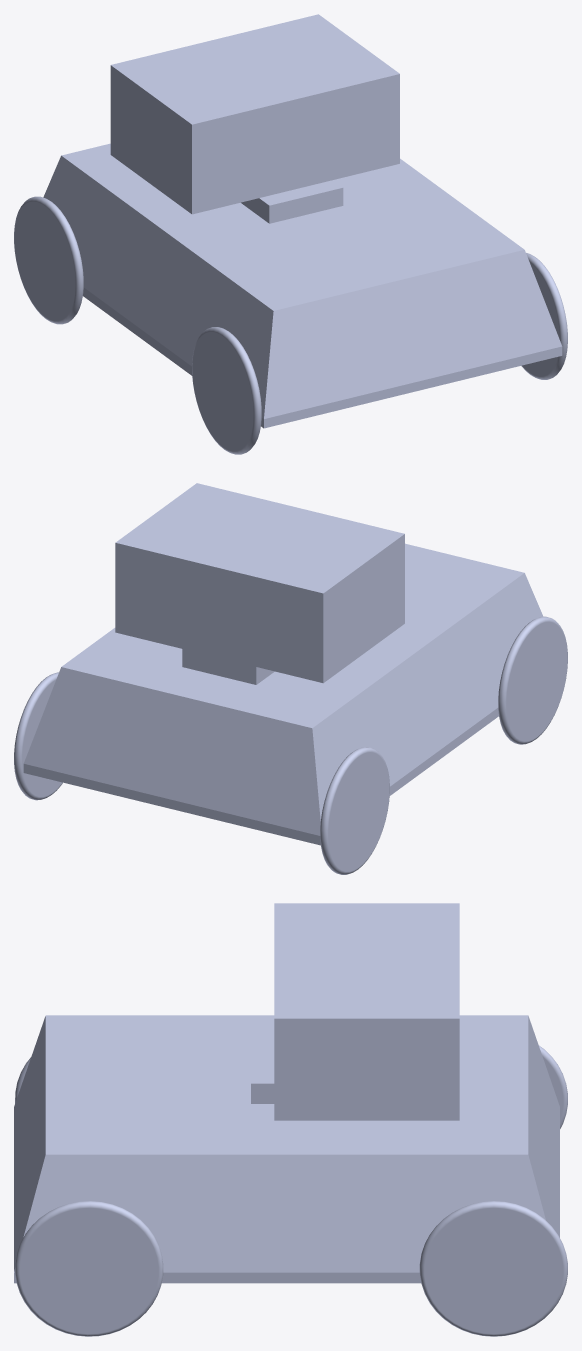
File: RobotMesh.fbx
3 renders of one model, top to bottom at view 1: azimuth 30°, elevation 25°; view 2: azimuth 150°, elevation 25°; view 3: azimuth 270°, elevation 25°, orthographic. The views are drawn at different scales.
Visible parts, largest first — view 1: 7, 1 (×2), 9 (×3); view 2: 7, 1 (×2), 9 (×3); view 3: 7, 1 (×2), 9 (×3).
Part boxes in pixels (box(x1,y1,x2,y2)): 7: box(43, 143, 562, 428); 1 (×2): box(110, 14, 399, 223); 9 (×3): box(14, 196, 567, 454); 7: box(23, 543, 543, 845); 1 (×2): box(115, 483, 404, 684); 9 (×3): box(14, 616, 567, 874); 7: box(14, 1015, 559, 1283); 1 (×2): box(251, 903, 459, 1120); 9 (×3): box(15, 1045, 567, 1336).
Bounding box in the file's own units: 16.64 × 12.88 × 22.37.
